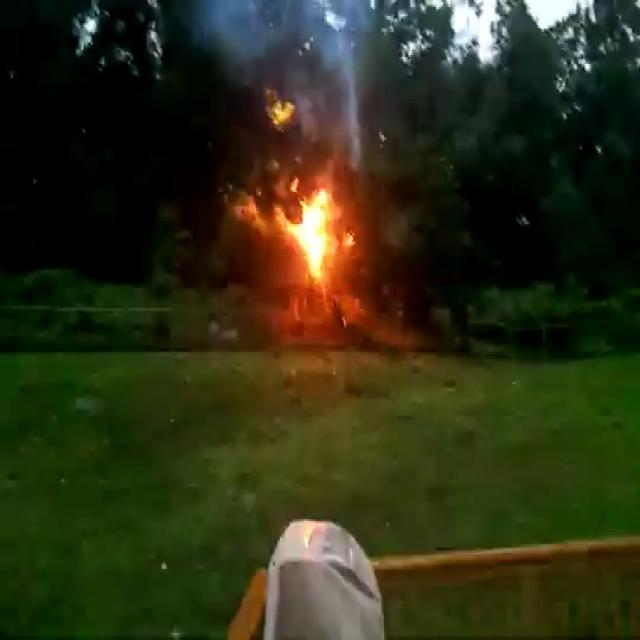Fire: (272, 168, 354, 286)
